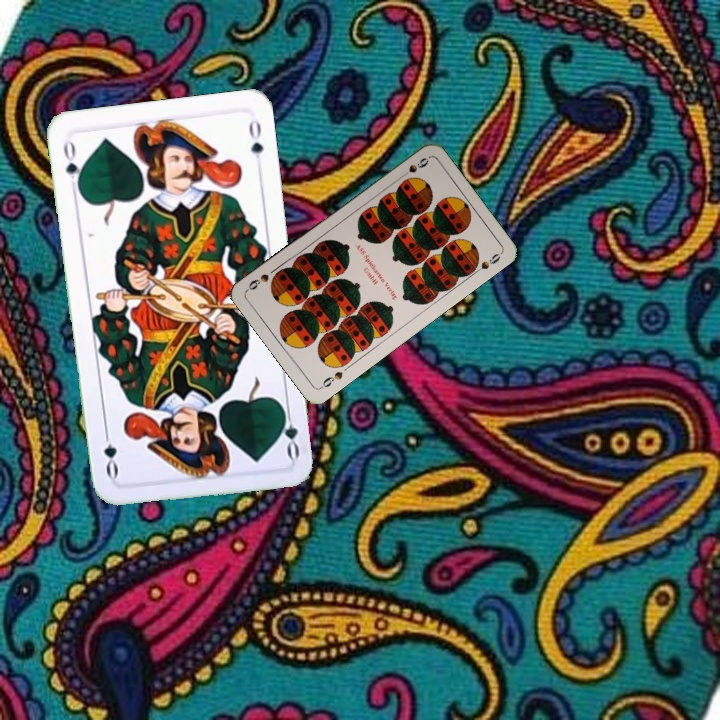GO: (59, 135, 85, 195), (276, 401, 302, 461)
S9: (395, 153, 431, 182), (316, 367, 345, 391)
